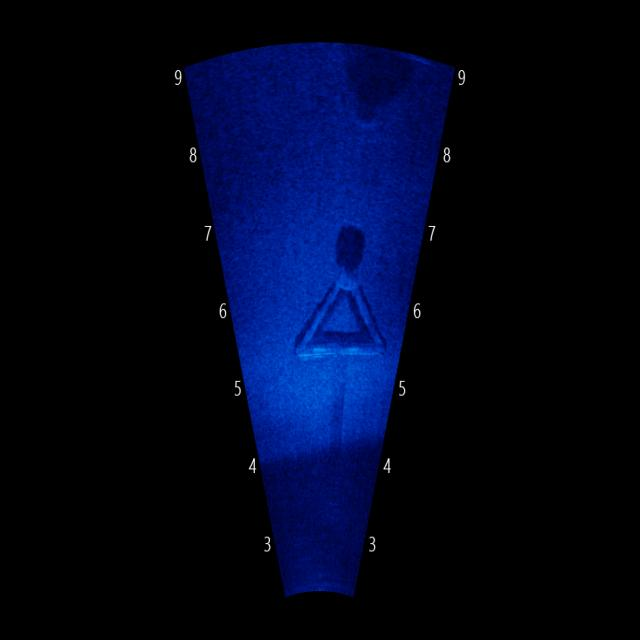triangle: (284, 236, 396, 374)
